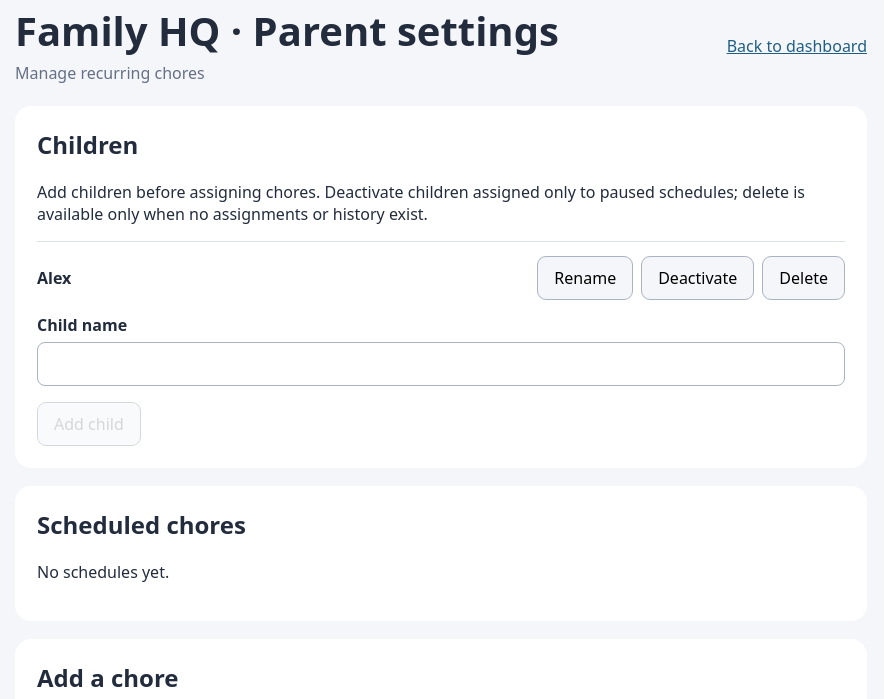
parent settings child controls › cancels renaming without saving or changing the original name
This screenshot has width=884, height=699.
Click the button "Rename". click: [585, 278]
box: [537,256,633,300]
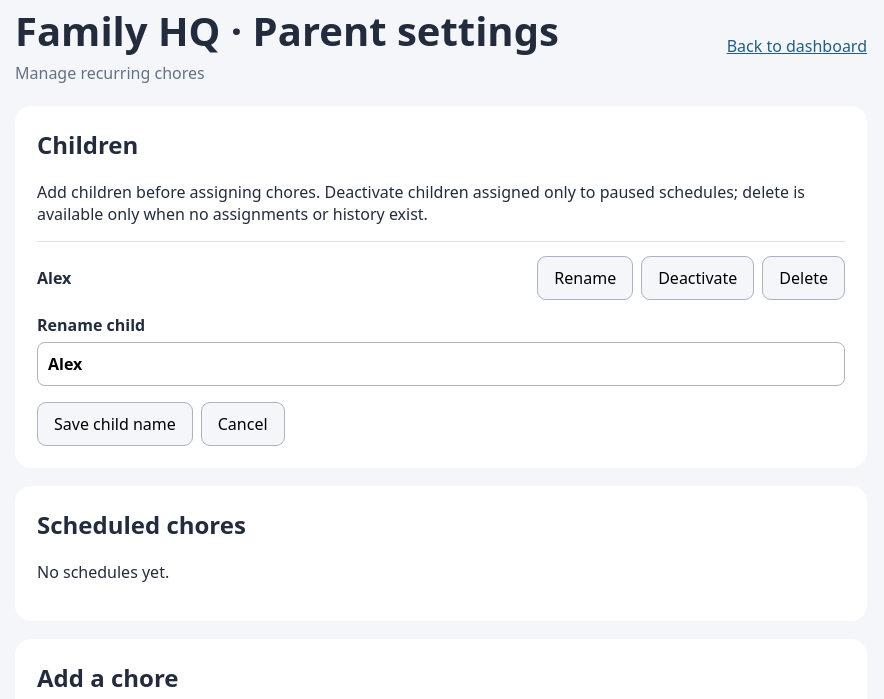
Replace the text in the field labelled "Rename child" with "Taylor". click: [441, 364]
box: [37,342,845,386]
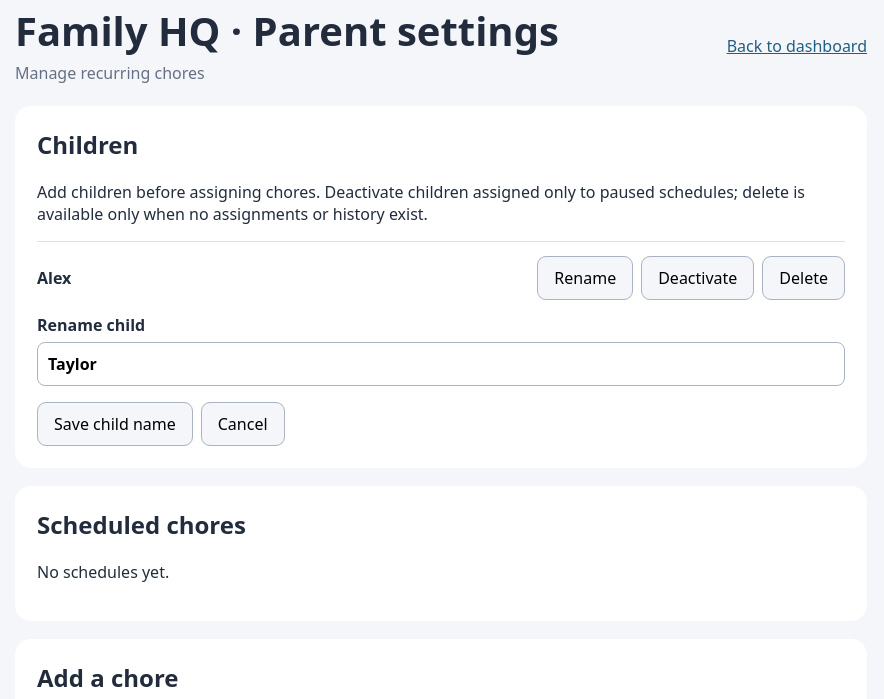
Click the button "Cancel". click: [243, 424]
box: [201,402,285,446]
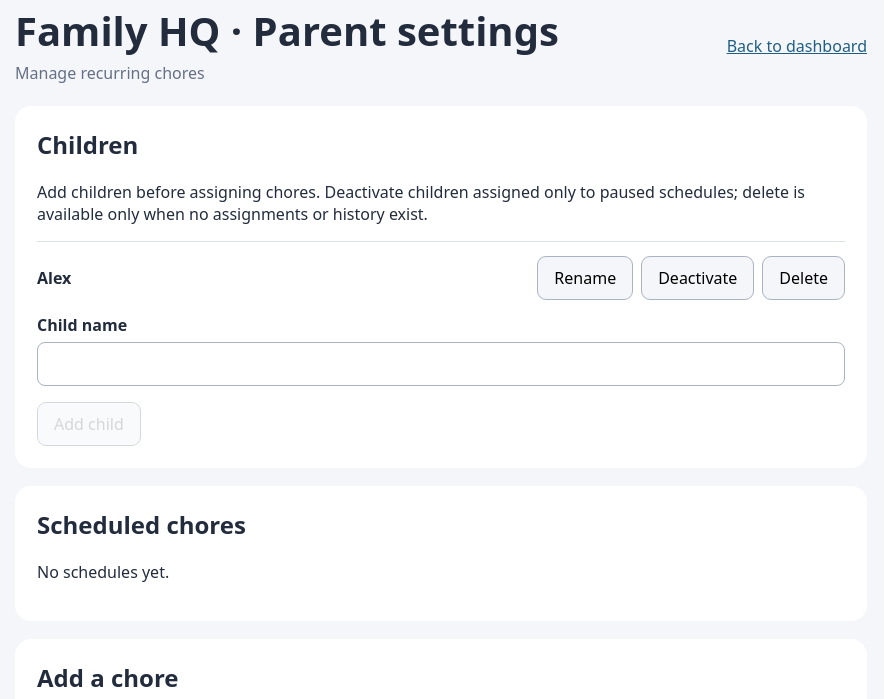
Expected: the text "Alex" is shown, [37,267,71,289]
Now the field labelled "Child name" is empty, box [37,342,845,386]
